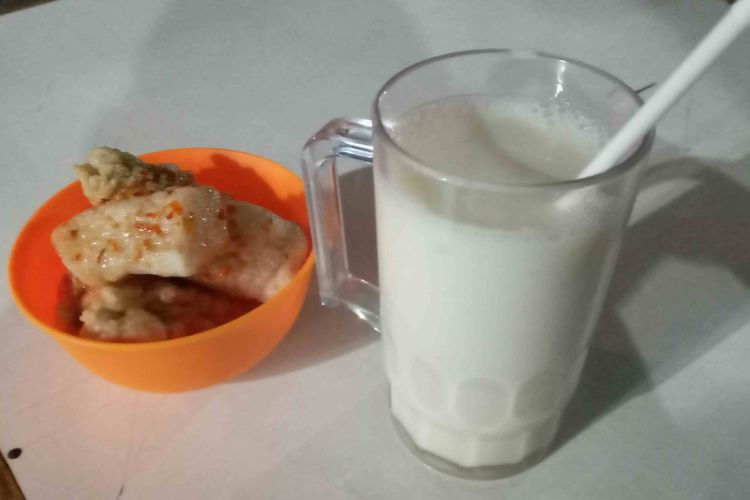produk_susu: (414, 80, 557, 427)
